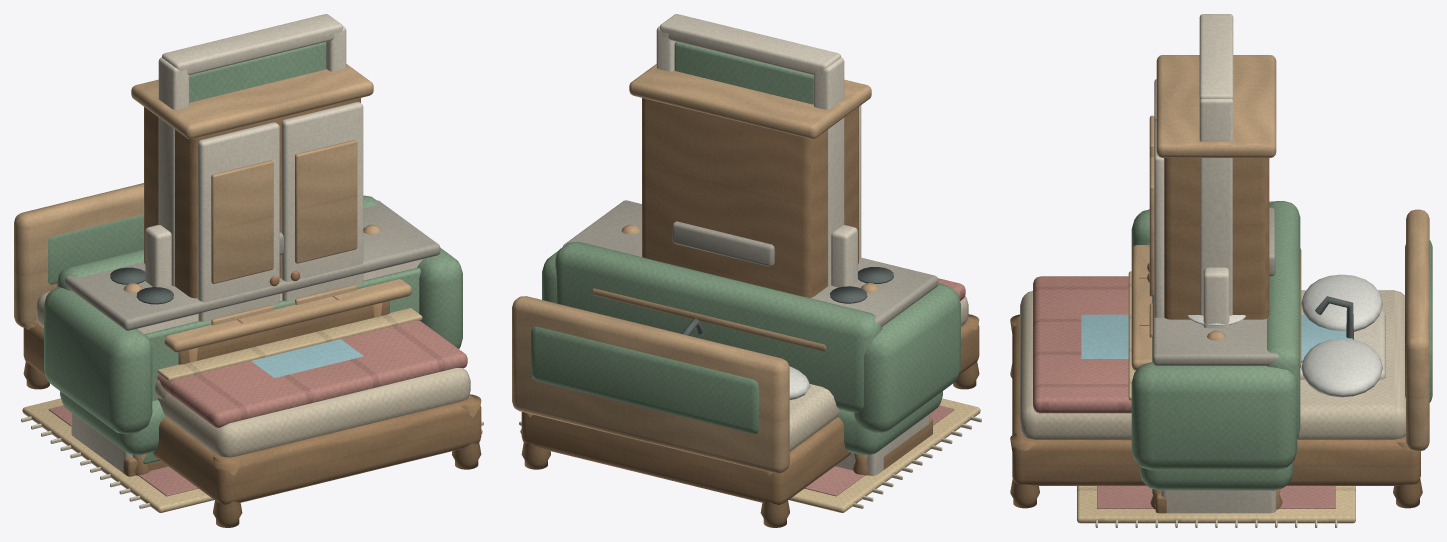
The model's file is home_cozy.glb.
The picture shows the model from 3 angles, left to right: view 1: azimuth 30°, elevation 25°; view 2: azimuth 150°, elevation 25°; view 3: azimuth 270°, elevation 25°; orthographic projection.
Visible parts, largest first — view 1: bed_LOD0, wardrobe_LOD0, sofa_LOD0, kitchen_LOD0, door_LOD0, table_LOD0, rug_LOD0, bath_LOD0, window_LOD0; view 2: bed_LOD0, wardrobe_LOD0, sofa_LOD0, door_LOD0, kitchen_LOD0, rug_LOD0, chimney_LOD0, table_LOD0, window_LOD0; view 3: bed_LOD0, sofa_LOD0, wardrobe_LOD0, door_LOD0, kitchen_LOD0, rug_LOD0, bath_LOD0, table_LOD0, window_LOD0.
Part boxes in pixels (x1,y1,x2,y2): bed_LOD0: [14, 183, 481, 527]; wardrobe_LOD0: [131, 64, 373, 325]; sofa_LOD0: [44, 195, 462, 475]; kitchen_LOD0: [65, 200, 440, 476]; door_LOD0: [158, 14, 346, 286]; table_LOD0: [164, 279, 411, 364]; rug_LOD0: [21, 398, 483, 512]; bath_LOD0: [251, 339, 363, 377]; window_LOD0: [145, 225, 171, 287]; bed_LOD0: [512, 278, 979, 527]; wardrobe_LOD0: [629, 64, 871, 297]; sofa_LOD0: [542, 241, 960, 475]; door_LOD0: [656, 14, 844, 286]; kitchen_LOD0: [563, 200, 938, 475]; rug_LOD0: [519, 398, 981, 512]; chimney_LOD0: [672, 221, 774, 266]; table_LOD0: [591, 288, 826, 351]; window_LOD0: [831, 225, 857, 287]; bed_LOD0: [1010, 209, 1432, 508]; sofa_LOD0: [1131, 201, 1300, 509]; wardrobe_LOD0: [1147, 55, 1276, 337]; door_LOD0: [1199, 14, 1233, 315]; kitchen_LOD0: [1152, 201, 1278, 513]; rug_LOD0: [1077, 486, 1355, 527]; bath_LOD0: [1081, 296, 1385, 379]; table_LOD0: [1131, 245, 1301, 370]; window_LOD0: [1203, 267, 1229, 328].
Size of what is drawn, in the model's own units: 2.06 by 2.16 by 2.12.
18 materials, 18 textured.
